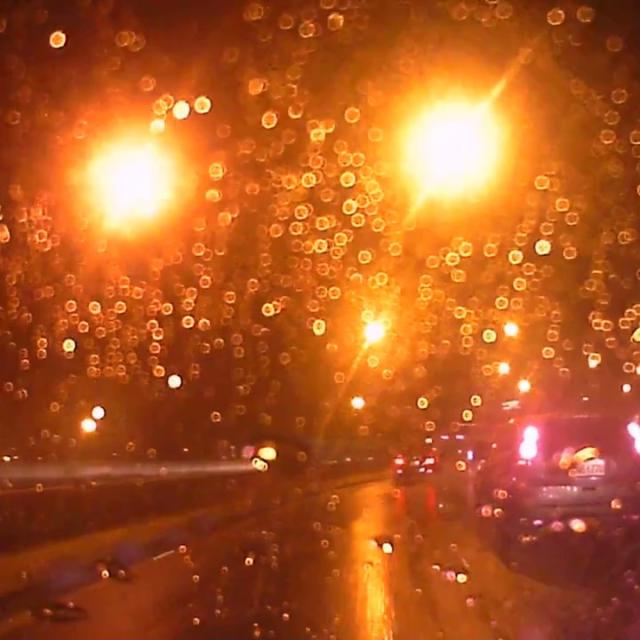Car: (471, 409, 639, 560), (389, 445, 438, 482)
